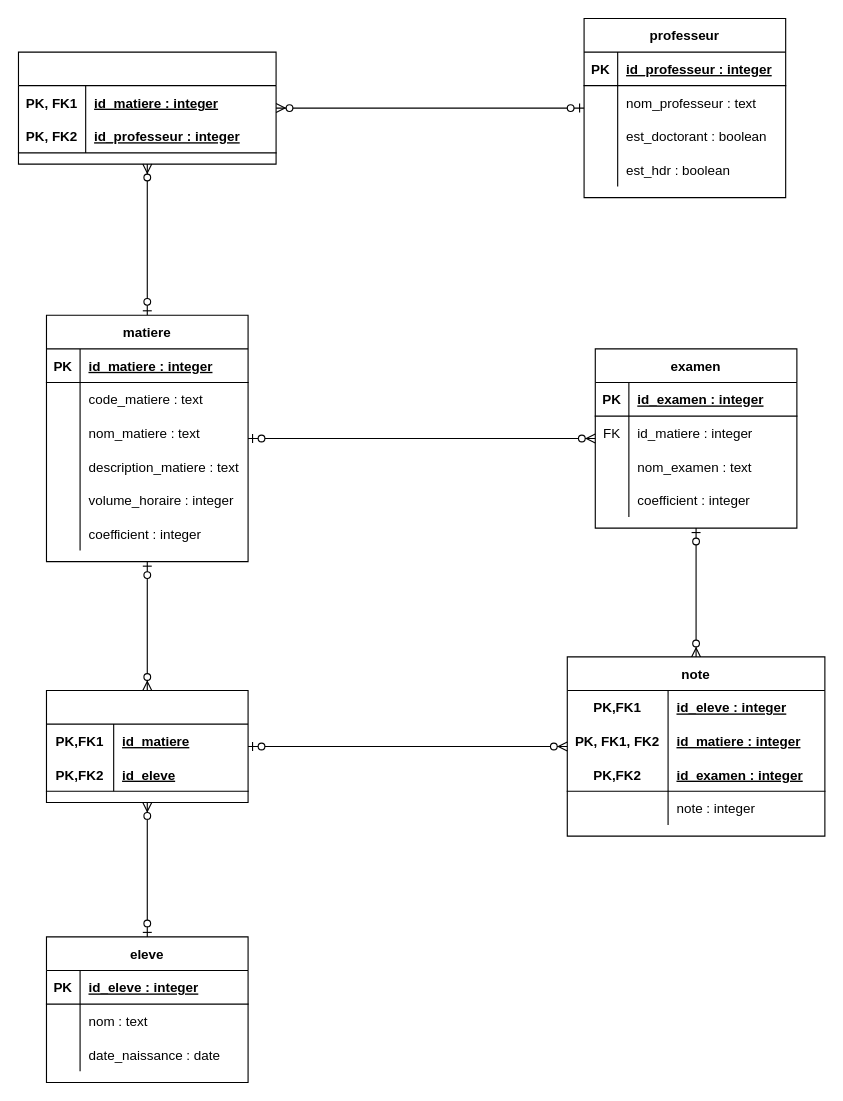
Image size: 843x1101. Some labels were removed from this diagram. The box of each missing label's shape, as (x1, y1, x2, y2) in pixels:
association_eleve_matiere: (45, 689, 248, 802)
association_prof_matiere: (17, 51, 276, 164)
